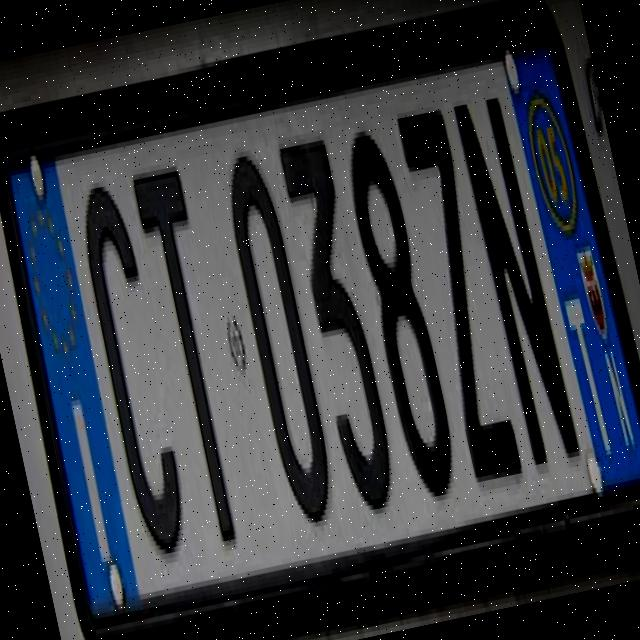EU: (0, 0, 640, 625)
Italie: (2, 146, 145, 621)
